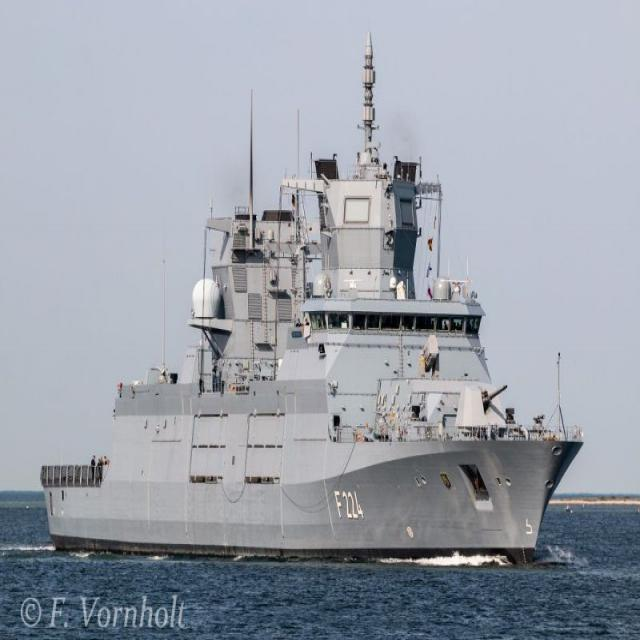Fragata: (40, 20, 588, 575)
